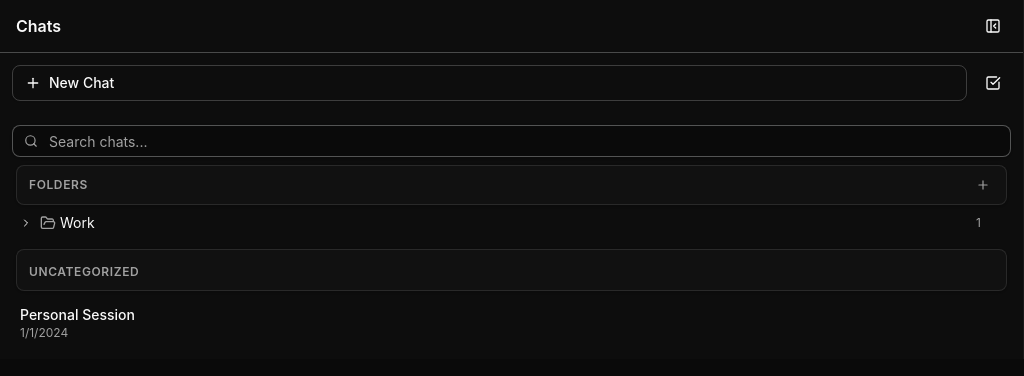
Scenario: SessionList › Folders › should filter sessions by folder when folder clicked
Note: Click on the folder (not expand button)
Click the text "Work" at (77, 222), box x1=60 y1=214 x2=95 y2=231
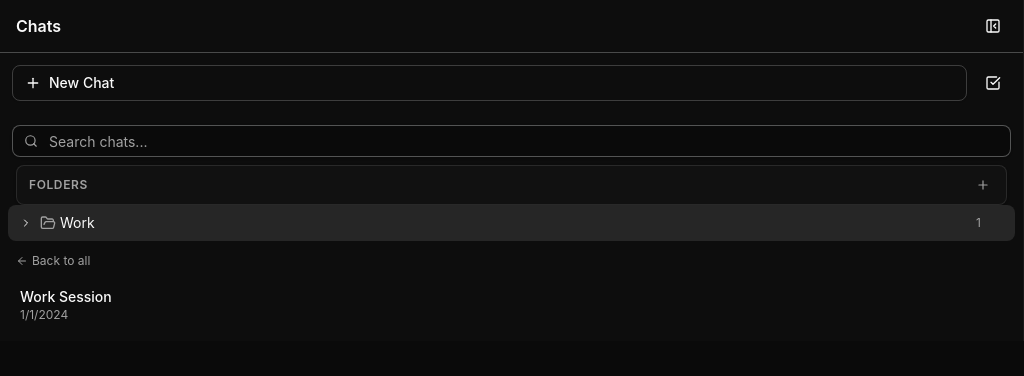
Expected: the button "Back to all" is shown, x1=8 y1=249 x2=98 y2=273
